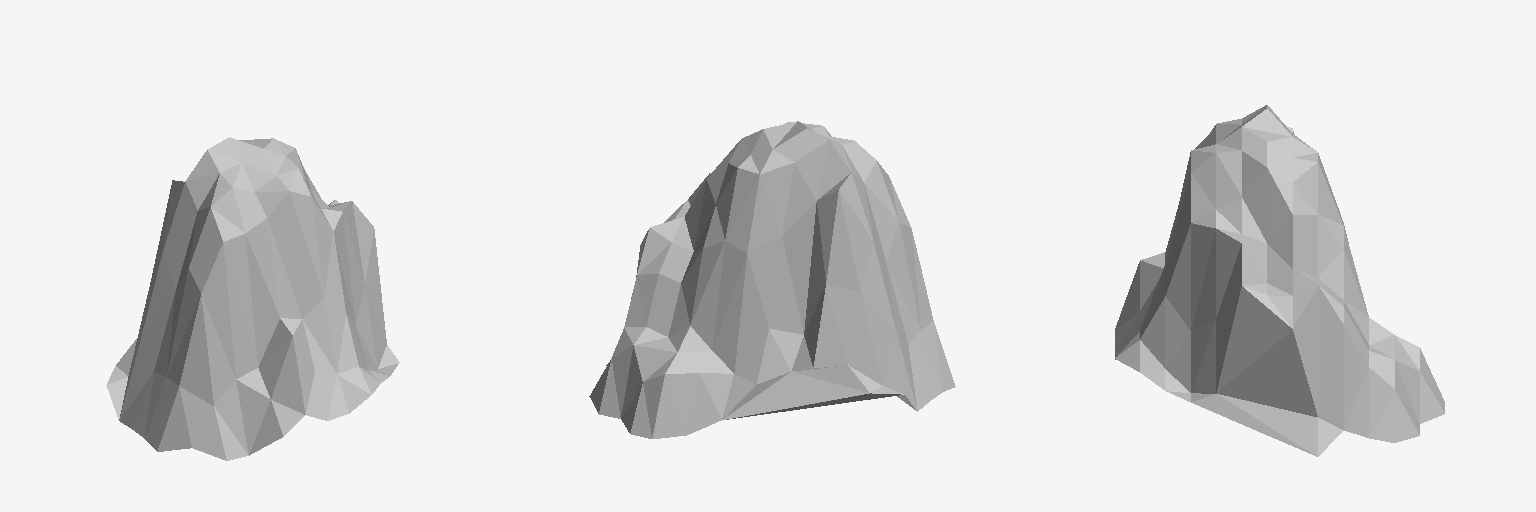
The model's file is tree_58.obj.
3 views of the same model, side by side, from view 1: azimuth 30°, elevation 25°; view 2: azimuth 150°, elevation 25°; view 3: azimuth 270°, elevation 25° (orthographic).
Visible parts, largest first — view 1: tree_58; view 2: tree_58; view 3: tree_58.
Part boxes in pixels (x1,y1,x2,y2): tree_58: (106, 137, 399, 460); tree_58: (589, 121, 955, 438); tree_58: (1115, 105, 1444, 456).
Size of the model in its own units: 13 by 11.4 by 13.